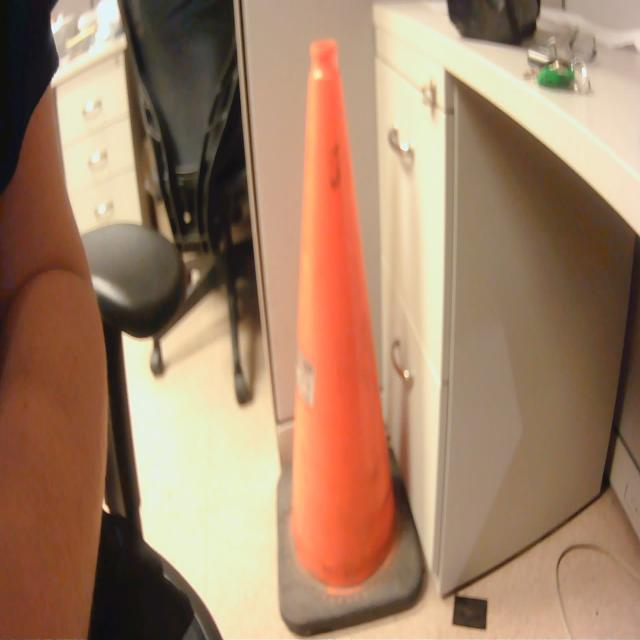traffic cone: (273, 38, 431, 640)
